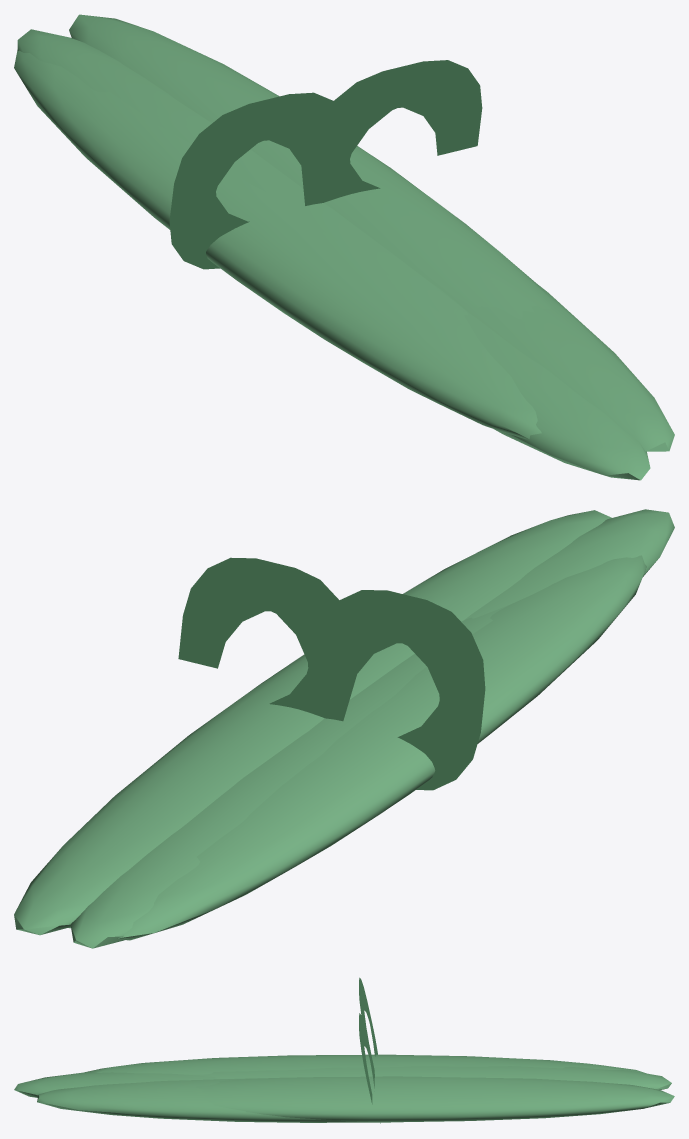
Rendered from selaginella-repanda.glb.
3 views of the same model, one above another, from view 1: azimuth 30°, elevation 25°; view 2: azimuth 150°, elevation 25°; view 3: azimuth 270°, elevation 25° (orthographic). The views are drawn at different scales.
Visible parts, largest first — view 1: frond3, frond0, frond4, fiddle1, fiddle-1, frond1, frond2; view 2: frond3, frond0, fiddle1, fiddle-1, frond4, frond1, frond2; view 3: frond0, frond1, frond3, frond4, frond2, fiddle1, fiddle-1.
Part boxes in pixels (x1,y1,x2,y2): frond3: (14, 50, 541, 439); frond0: (69, 14, 554, 318); frond4: (17, 29, 476, 336); fiddle1: (303, 60, 482, 205); fiddle-1: (169, 92, 347, 269); frond1: (442, 284, 674, 451); frond2: (464, 312, 650, 480); frond3: (117, 555, 646, 940); frond0: (14, 595, 455, 935); fiddle1: (178, 557, 353, 721); fiddle-1: (313, 590, 485, 790); frond4: (70, 605, 508, 948); frond1: (403, 510, 611, 621); frond2: (465, 509, 674, 619); frond0: (196, 1076, 674, 1122); frond1: (37, 1078, 390, 1122); frond3: (84, 1054, 645, 1074); frond4: (189, 1066, 671, 1089); frond2: (14, 1072, 219, 1097); fiddle1: (359, 1013, 380, 1123); fiddle-1: (359, 977, 377, 1056).
Bounding box in the file's own units: 0.184 × 0.1064 × 0.6278.
